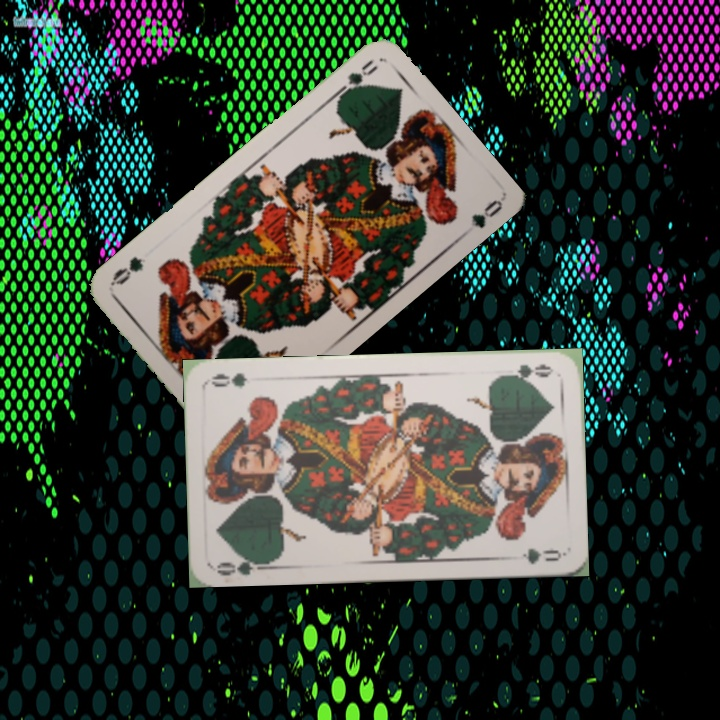GO: (330, 55, 381, 103), (213, 551, 272, 578), (498, 360, 556, 383)
